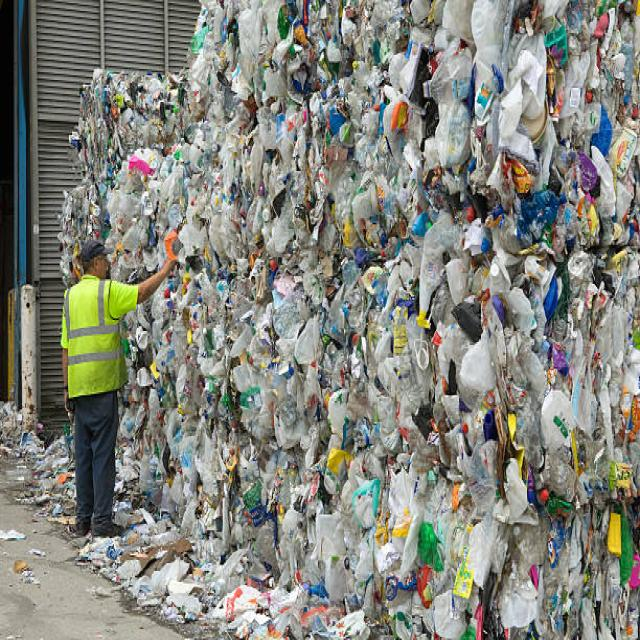cardboard: (158, 8, 624, 621)
trash: (165, 19, 633, 615)
